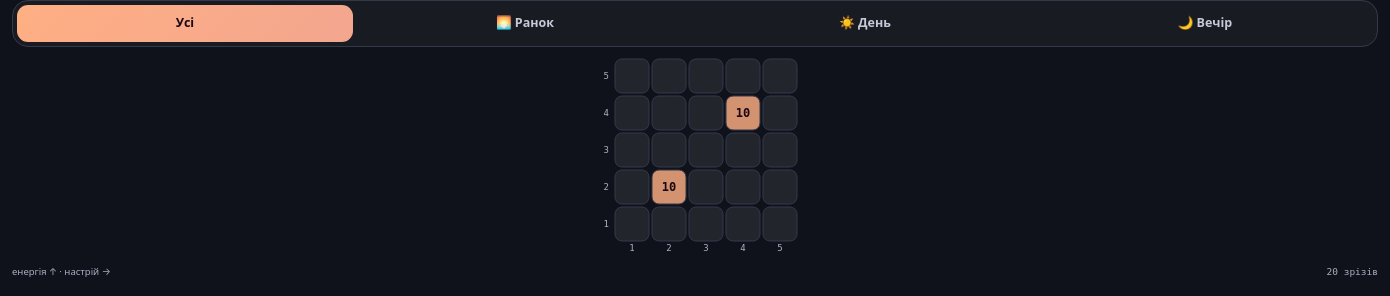
StateMatrix — слот-фільтр › «Усі» рахує всі слоти, фільтр — лише свій
Click the button "🌙 Вечір".
click(1205, 23)  # box [1037,5,1373,42]
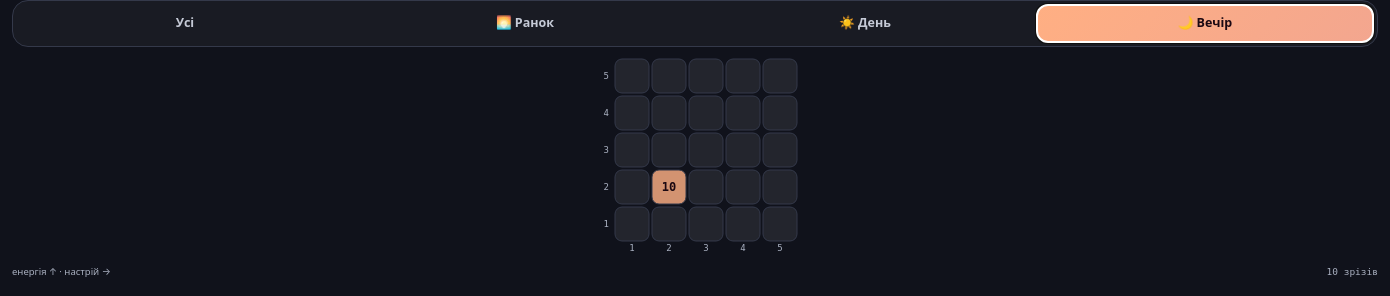
Expected: the text "10 зрізів" is shown, [1326,265,1378,279]
